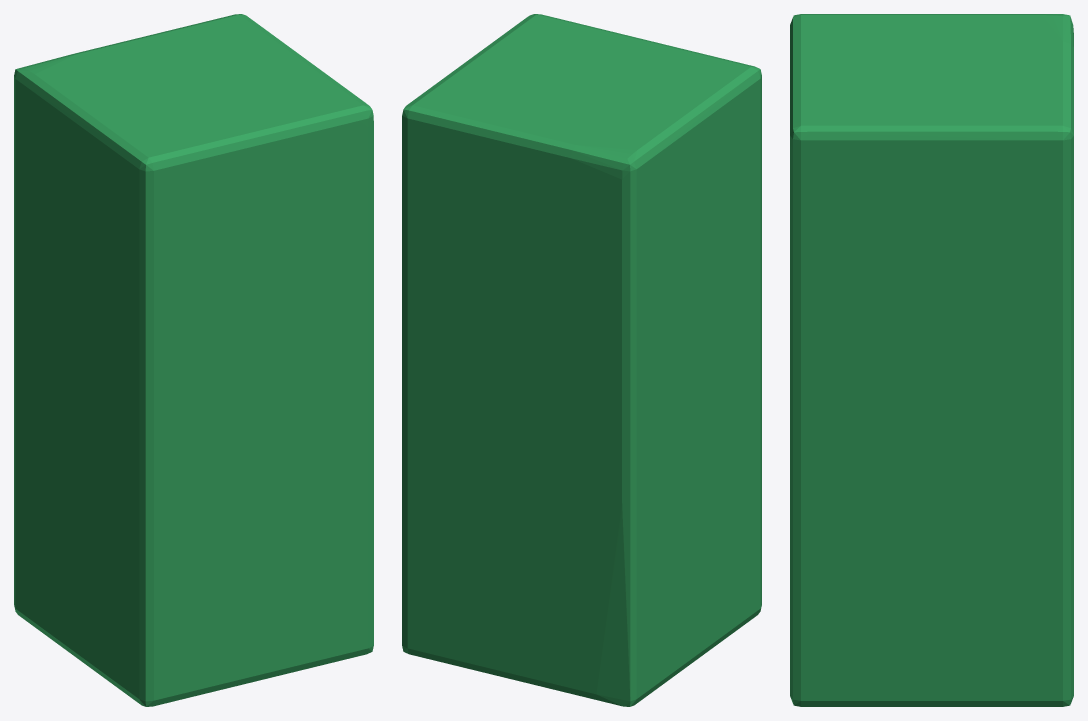
The model's file is right_hip_roll_link_part_10.obj.
3 views of the same model, side by side, from view 1: azimuth 30°, elevation 25°; view 2: azimuth 150°, elevation 25°; view 3: azimuth 270°, elevation 25° (orthographic). The views are drawn at different scales.
Size of the model in its own units: 0.0335 by 0.0752 by 0.0334.
